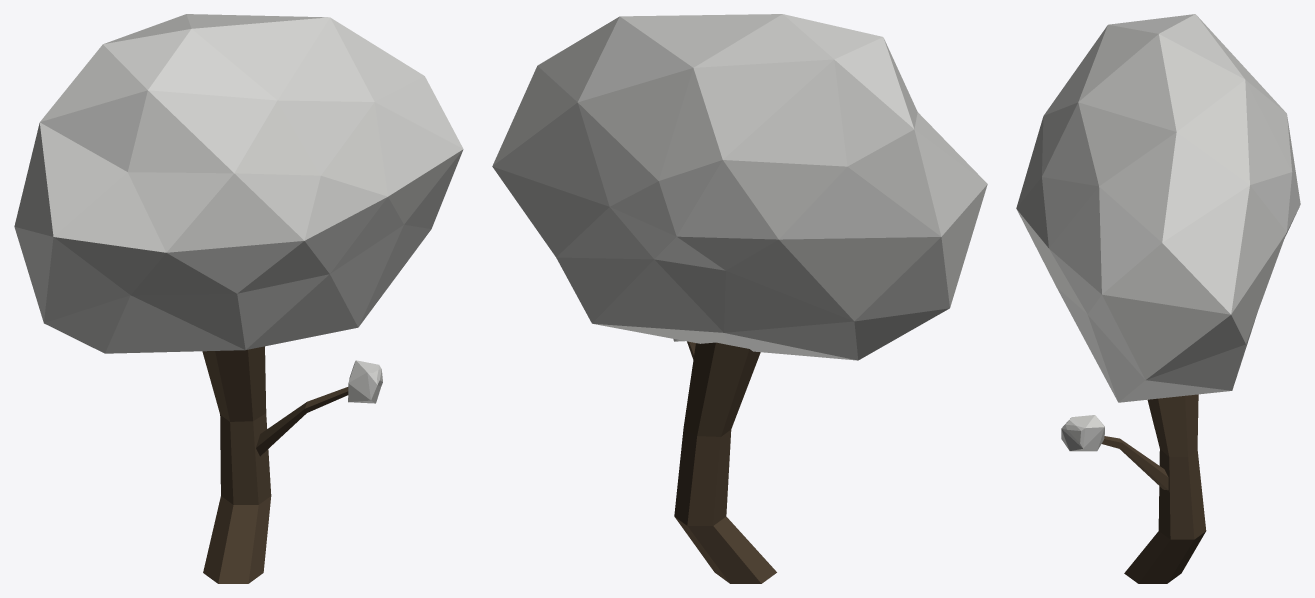
File: Tree_5_White.fbx
3 renders of one model, left to right at view 1: azimuth 30°, elevation 25°; view 2: azimuth 150°, elevation 25°; view 3: azimuth 270°, elevation 25°, orthographic. The views are drawn at different scales.
Parts seen in each view (by area): view 1: Tree_5_White_Part_2, Tree_5_White_Part_1, Tree_5_White_Part_3; view 2: Tree_5_White_Part_2, Tree_5_White_Part_1; view 3: Tree_5_White_Part_2, Tree_5_White_Part_1, Tree_5_White_Part_3.
Part boxes in pixels (x1,y1,x2,y2): Tree_5_White_Part_2: [14, 14, 463, 353]; Tree_5_White_Part_1: [202, 346, 348, 583]; Tree_5_White_Part_3: [348, 360, 382, 403]; Tree_5_White_Part_2: [492, 14, 987, 360]; Tree_5_White_Part_1: [674, 341, 776, 583]; Tree_5_White_Part_2: [1016, 14, 1300, 402]; Tree_5_White_Part_1: [1101, 394, 1206, 583]; Tree_5_White_Part_3: [1061, 415, 1104, 451].
Bounding box in the file's own units: 546 × 701 × 346.
